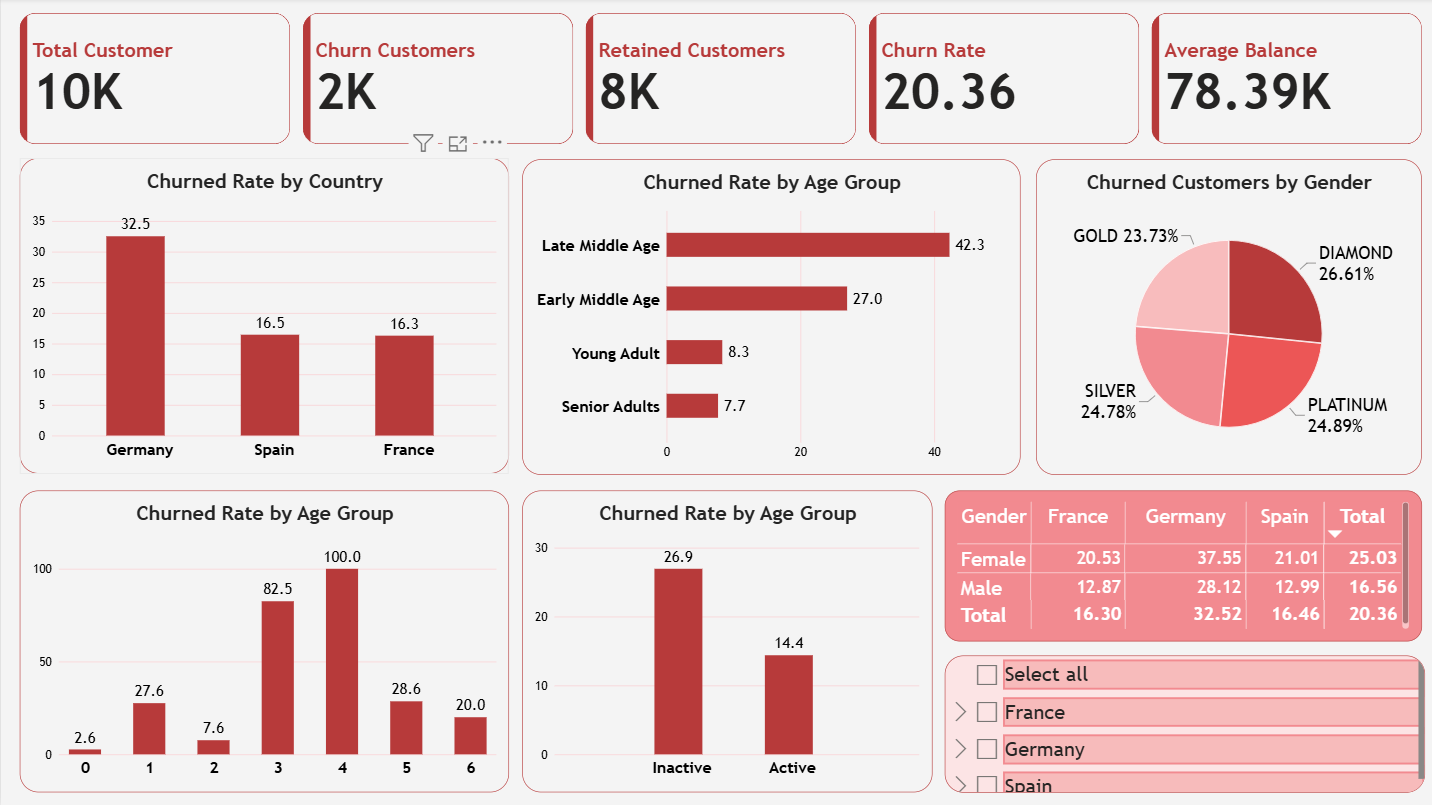

What the dashboard file says about the page in this screenshot:
{"tool":"powerbi","page":{"name":"Customer Churn Overview","canvas":[1920,1080],"ordinal":0},"visuals":[{"type":"cardVisual","fields":{"Data":["bank_churn bank_churn.Total Customer","bank_churn bank_churn.Churn Customers","bank_churn bank_churn.Retained Customers","bank_churn bank_churn.Churn Rate","bank_churn bank_churn.Average Balance"]},"box":[24.4,20.4,1873.6,175.1],"z":0},{"type":"columnChart","title":"Churned Rate by Country","fields":{"Category":["bank_churn bank_churn.geography"],"Y":["bank_churn bank_churn.Churn Rate"]},"box":[24.4,213.8,653.7,421.6],"z":1000},{"type":"pieChart","title":"Churned Customers by Gender","fields":{"Category":["bank_churn bank_churn.card_type"],"Y":["bank_churn bank_churn.Churn Rate"]},"box":[1382.8,215.9,515.2,421.6],"z":2000},{"type":"barChart","title":"Churned Rate by Age Group","fields":{"Category":["bank_churn bank_churn.Age Group"],"Y":["bank_churn bank_churn.Churn Rate"]},"box":[696.5,215.9,665.9,421.6],"z":3000},{"type":"columnChart","title":"Churned Rate by Age Group","fields":{"Category":["bank_churn bank_churn.numofproducts"],"Y":["bank_churn bank_churn.Churn Rate"]},"box":[24.4,657.8,653.7,403.2],"z":4000},{"type":"columnChart","title":"Churned Rate by Age Group","fields":{"Category":["bank_churn bank_churn.Activity"],"Y":["bank_churn bank_churn.Churn Rate"]},"box":[696.5,657.8,547.8,403.2],"z":5000},{"type":"pivotTable","title":"Churned Rate by Age Group","fields":{"Rows":["bank_churn bank_churn.gender"],"Values":["bank_churn bank_churn.Churn Rate"],"Columns":["bank_churn bank_churn.geography"]},"box":[1260.6,657.8,637.4,201.6],"z":6000},{"type":"slicer","title":"Churned Rate by Age Group","fields":{"Values":["bank_churn bank_churn.geography","bank_churn bank_churn.gender","bank_churn bank_churn.hascrcard","bank_churn bank_churn.card_type","bank_churn bank_churn.Activity"]},"box":[1260.6,877.7,641.5,183.3],"z":7000}]}

Visuals, with their boxes in screenshot pixels (x1, y1, x2, y2), scaled from the page's 1920x1080 canvas onto the 1432x805 screenshot:
cardVisual - bank_churn bank_churn.Total Customer x bank_churn bank_churn.Churn Customers: [x1=18, y1=15, x2=1416, y2=146]
"Churned Rate by Country" columnChart: [x1=18, y1=159, x2=506, y2=474]
"Churned Customers by Gender" pieChart: [x1=1031, y1=161, x2=1416, y2=475]
"Churned Rate by Age Group" barChart: [x1=519, y1=161, x2=1016, y2=475]
"Churned Rate by Age Group" columnChart: [x1=18, y1=490, x2=506, y2=791]
"Churned Rate by Age Group" columnChart: [x1=519, y1=490, x2=928, y2=791]
"Churned Rate by Age Group" pivotTable: [x1=940, y1=490, x2=1416, y2=641]
"Churned Rate by Age Group" slicer: [x1=940, y1=654, x2=1419, y2=791]
